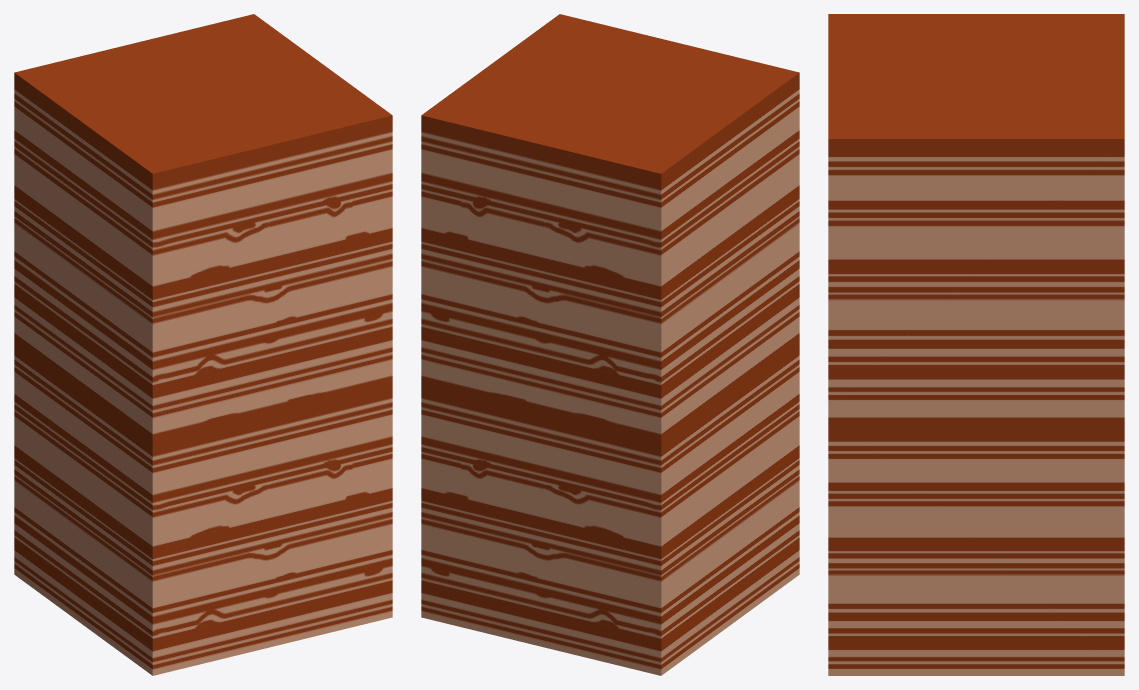
File: sanstoneTILE-4mtallx2m-FLAT.glb
The picture shows the model from 3 angles, left to right: view 1: azimuth 30°, elevation 25°; view 2: azimuth 150°, elevation 25°; view 3: azimuth 270°, elevation 25°; orthographic projection. The views are drawn at different scales.
Visible parts, largest first — view 1: Cube; view 2: Cube; view 3: Cube.
Boxes of the visible parts, x1,y1,x2,y2 form: Cube: (14, 14, 392, 675); Cube: (421, 14, 799, 675); Cube: (828, 14, 1124, 675).
Bounding box in the file's own units: 2 × 4 × 2.
1 material, 1 textured.
